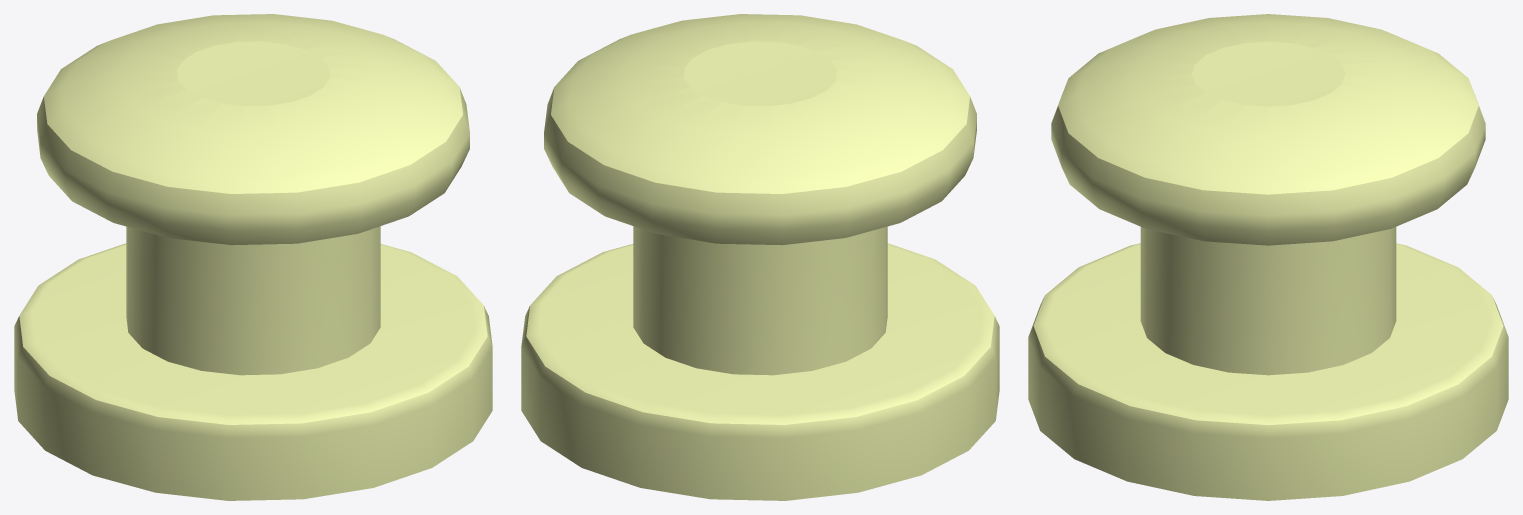
File: Button_V1.fbx
3 renders of one model, left to right at view 1: azimuth 30°, elevation 25°; view 2: azimuth 150°, elevation 25°; view 3: azimuth 270°, elevation 25°, orthographic.
Visible parts, largest first — view 1: button1_top, button1_base; view 2: button1_top, button1_base; view 3: button1_top, button1_base.
Part boxes in pixels (left/top/right/bottom): button1_top: left=37, top=14, right=469, bottom=375; button1_base: left=14, top=243, right=492, bottom=500; button1_top: left=544, top=14, right=976, bottom=375; button1_base: left=521, top=243, right=999, bottom=500; button1_top: left=1051, top=14, right=1485, bottom=375; button1_base: left=1028, top=243, right=1508, bottom=500.
Size of the model in its own units: 0.2368 by 0.177 by 0.2368.
